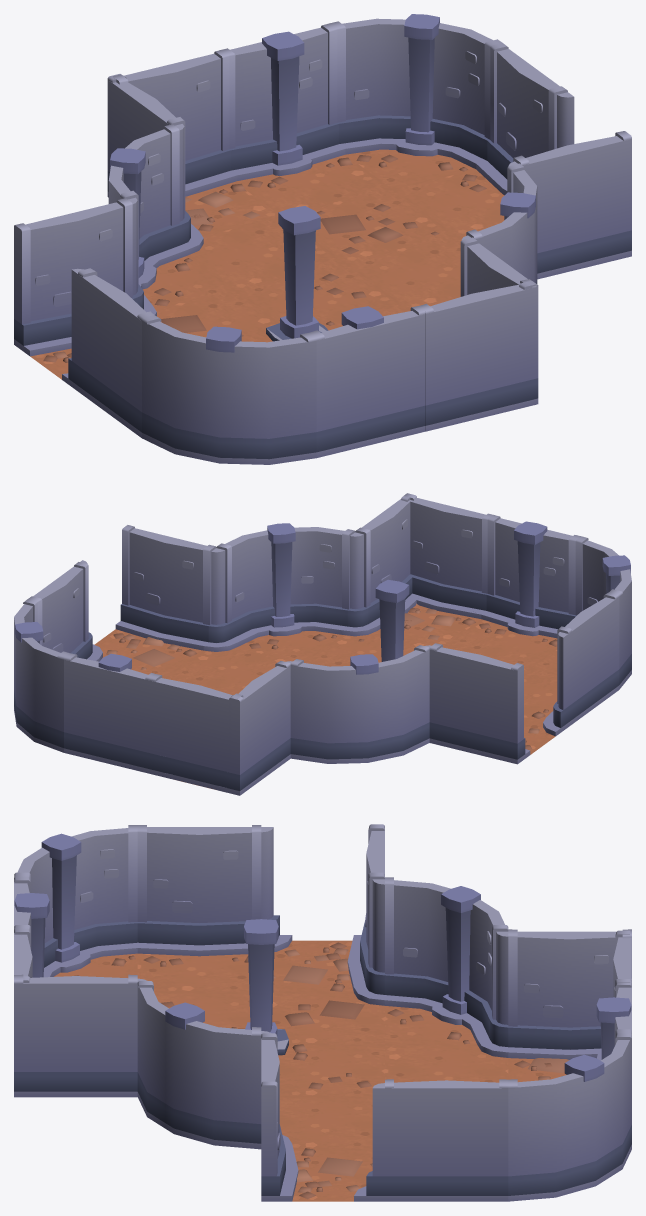
The model's file is small room with doors.glb.
The picture shows the model from 3 angles, top to bottom: view 1: azimuth 30°, elevation 25°; view 2: azimuth 150°, elevation 25°; view 3: azimuth 270°, elevation 25°; orthographic projection. The views are drawn at different scales.
Parts seen in each view (by area): view 1: room-large-variation, template-wall.001, template-wall; view 2: room-large-variation, template-wall.001, template-wall; view 3: room-large-variation, template-wall, template-wall.001.
Boxes of the visible parts, x1,y1,x2,y2 form: room-large-variation: (14, 14, 631, 464); template-wall.001: (420, 279, 536, 431); template-wall: (113, 49, 245, 196); room-large-variation: (14, 493, 631, 795); template-wall.001: (401, 496, 492, 625); template-wall: (149, 674, 243, 790); room-large-variation: (14, 824, 631, 1201); template-wall: (597, 930, 631, 1060); template-wall.001: (14, 928, 32, 982).
Size of the model in its own units: 20 by 4.23 by 20.01.
3 materials, 3 textured.
